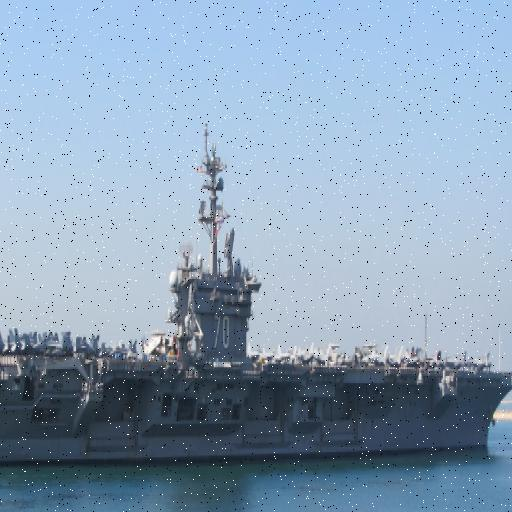Portanaves: (1, 119, 512, 476)
